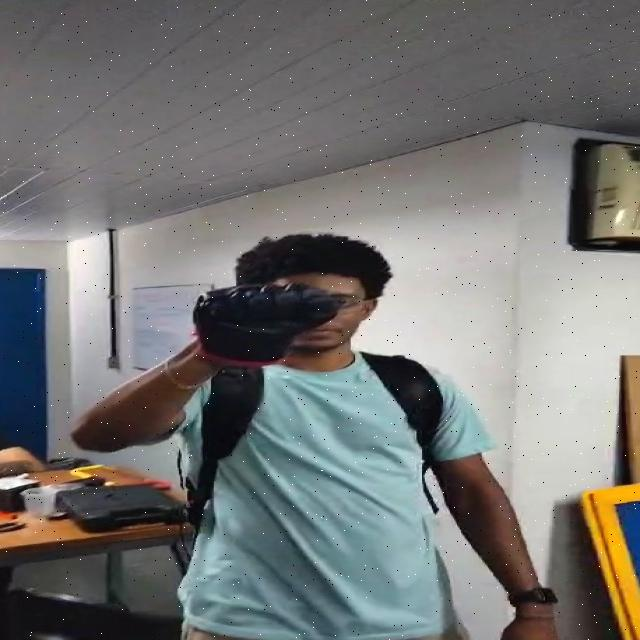Gloves: (182, 280, 345, 371)
